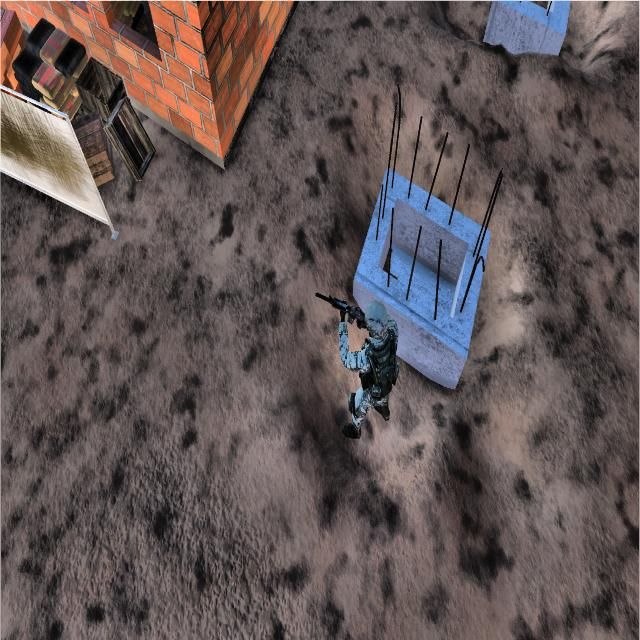bad: (306, 260, 405, 449)
